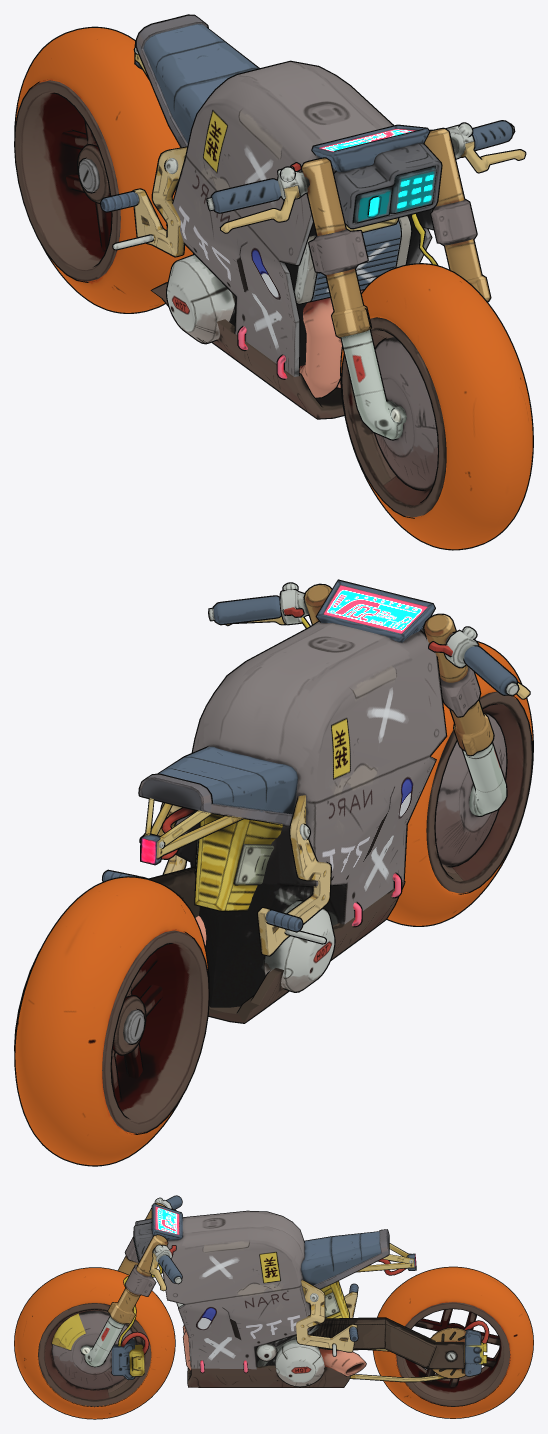
Rendered from cyberBike.glb.
3 renders of one model, top to bottom at view 1: azimuth 30°, elevation 25°; view 2: azimuth 150°, elevation 25°; view 3: azimuth 270°, elevation 25°, orthographic. The views are drawn at different scales.
Parts seen in each view (by area): view 1: Object_2, Object_3; view 2: Object_2, Object_3; view 3: Object_2, Object_3.
Part boxes in pixels (x1,y1,x2,y2): Object_2: [15, 15, 532, 549]; Object_3: [14, 14, 533, 550]; Object_2: [15, 580, 532, 1165]; Object_3: [14, 579, 533, 1166]; Object_2: [14, 1196, 533, 1418]; Object_3: [14, 1195, 533, 1419].
Bounding box in the file's own units: 1.1 × 1.24 × 2.92.
2 materials, 2 textured.
